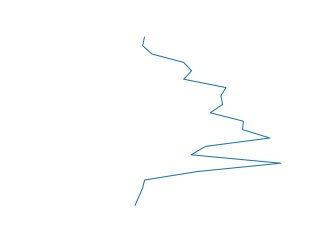floodSwamp: (129, 37, 289, 206)
